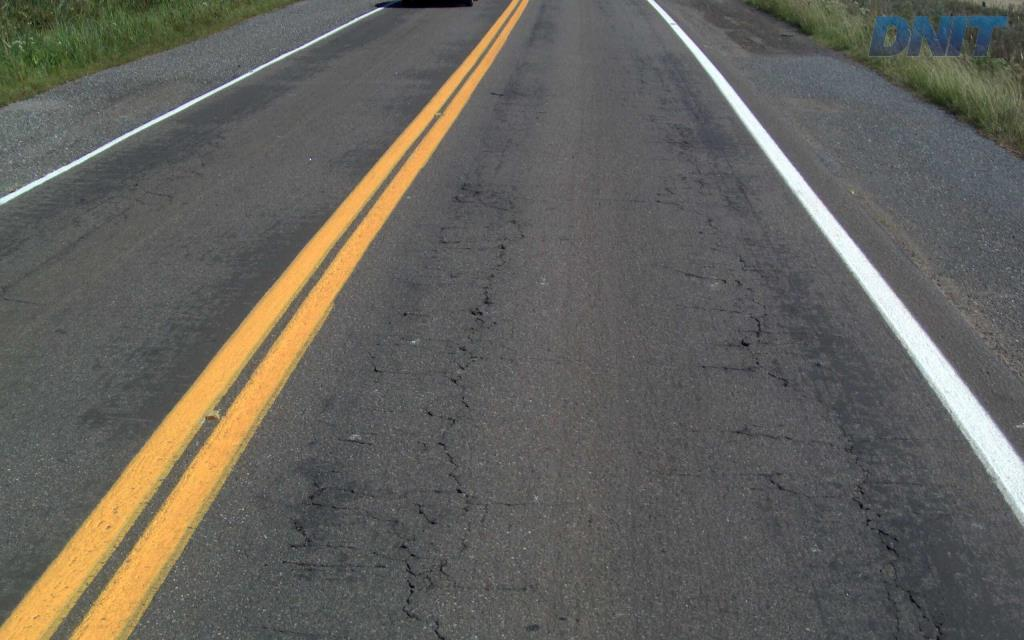crack: (301, 471, 331, 524)
